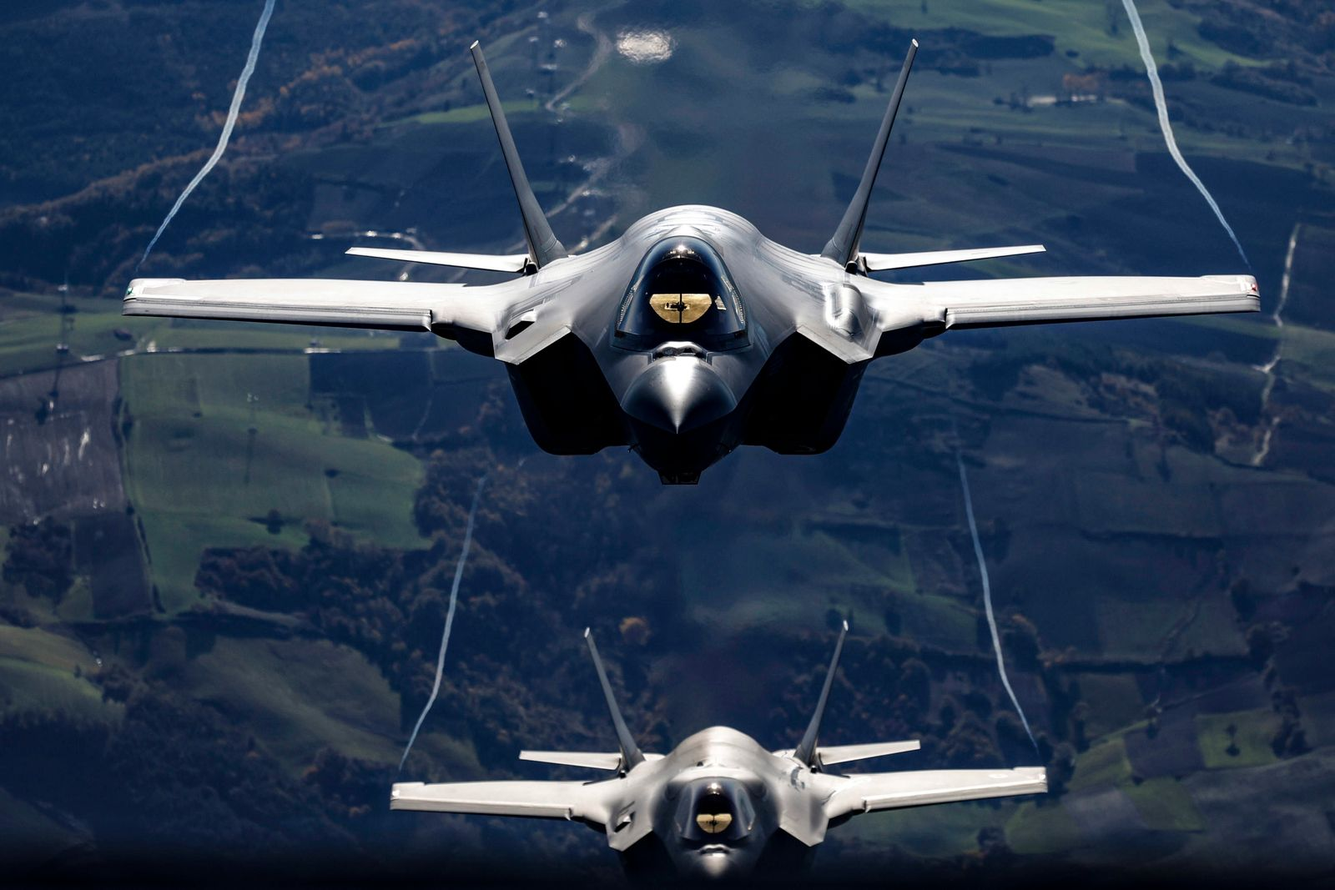F35: (115, 26, 1272, 490), (380, 605, 1061, 873)
